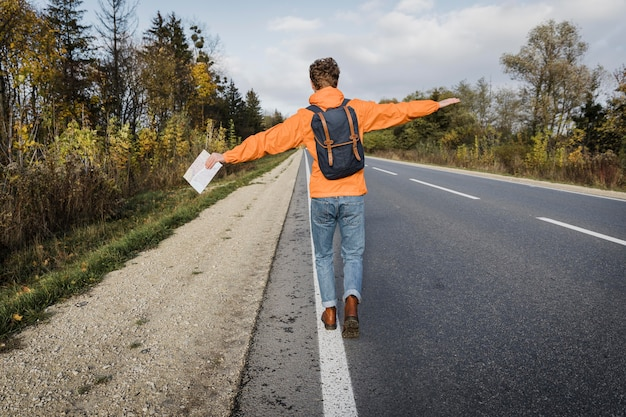Person: (201, 57, 461, 338)
